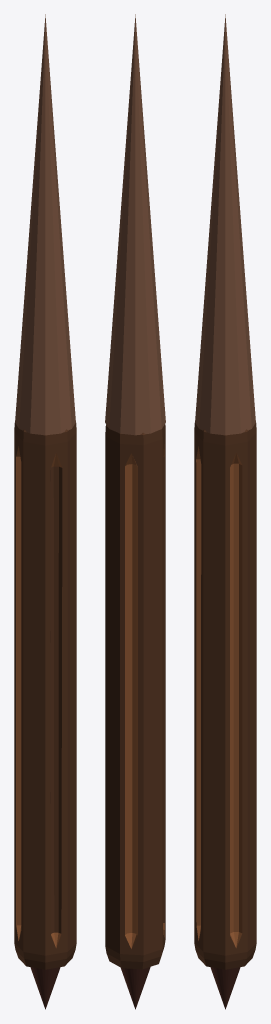
File: Wand 522.glb
3 views of the same model, side by side, from view 1: azimuth 90°, elevation 25°; view 2: azimuth 150°, elevation 25°; view 3: azimuth 270°, elevation 25° (orthographic).
Parts seen in each view (by area): view 1: GeneratedWand; view 2: GeneratedWand; view 3: GeneratedWand.
Boxes of the visible parts, x1,y1,x2,y2 form: GeneratedWand: (14, 14, 76, 1009); GeneratedWand: (105, 14, 165, 1009); GeneratedWand: (194, 14, 256, 1009).
Bounding box in the file's own units: 0.0289 × 0.5083 × 0.0289.
